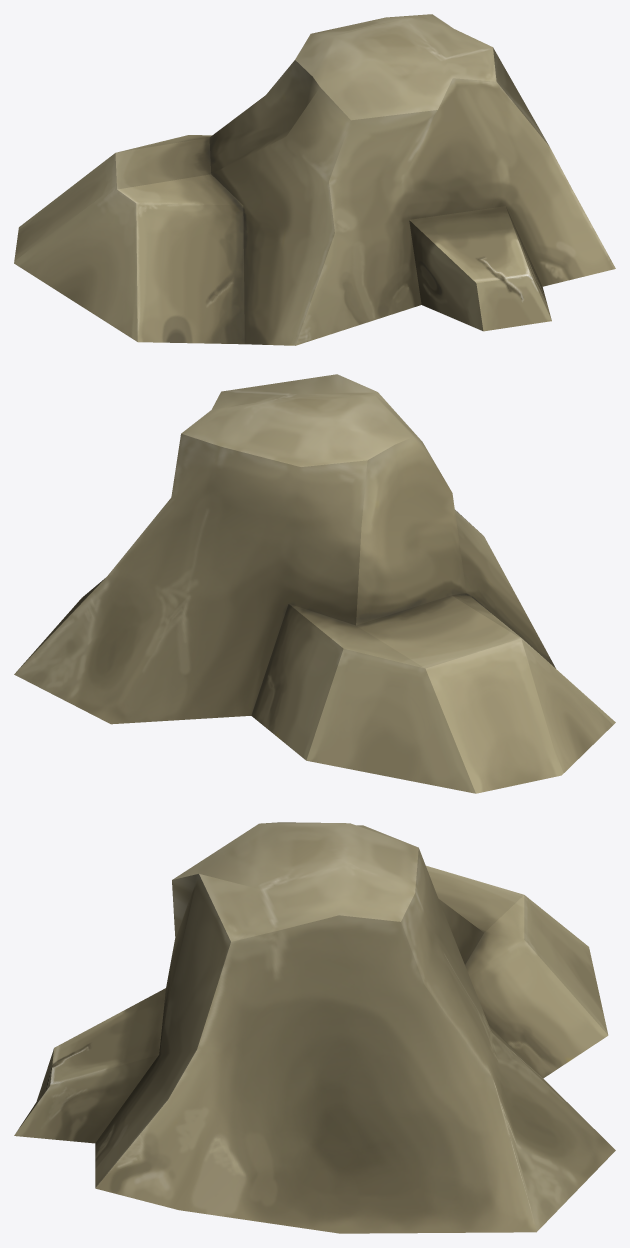
File: rock1.fbx
3 views of the same model, one above another, from view 1: azimuth 30°, elevation 25°; view 2: azimuth 150°, elevation 25°; view 3: azimuth 270°, elevation 25° (orthographic). The views are drawn at different scales.
Visible parts, largest first — view 1: pCube1; view 2: pCube1; view 3: pCube1.
Part boxes in pixels (bbox=[...]): pCube1: bbox=[14, 14, 615, 345]; pCube1: bbox=[14, 374, 615, 793]; pCube1: bbox=[14, 822, 615, 1233].
Bounding box in the file's own units: 40.78 × 18.27 × 34.25.
1 material, 1 textured.
